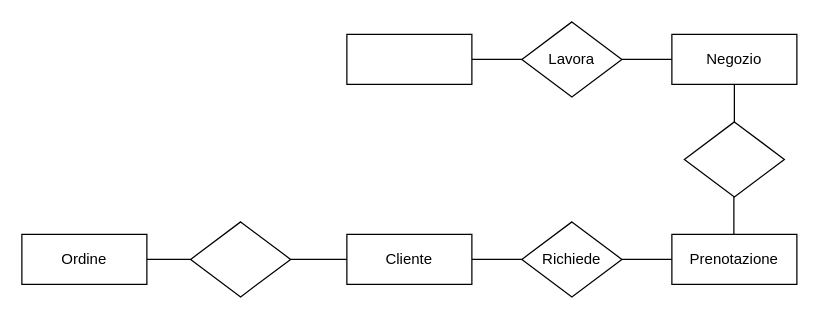
Some shapes in this 819 by 319 pixel diagram are drawn without their labels. Here are the shapes that lost their labels. From the top down, the centre of each, then its label:
the point at 409,58: Dipendente
the point at 733,159: Riceve
the point at 240,259: Effettua
